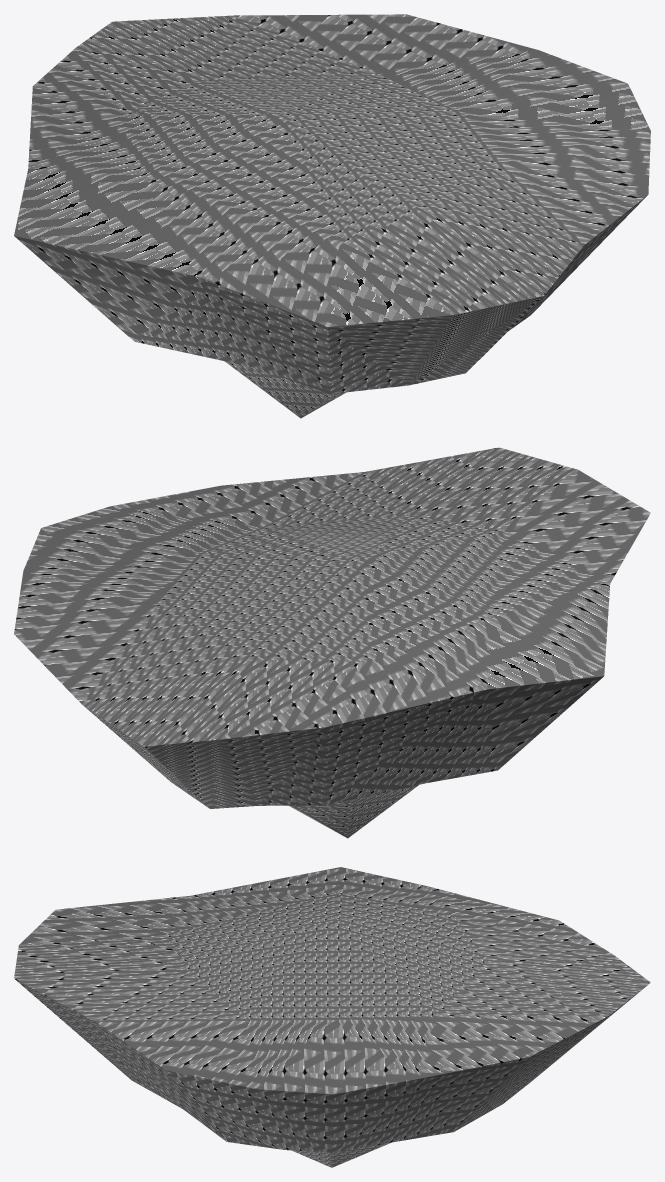
Rendered from Island.fbx.
3 views of the same model, one above another, from view 1: azimuth 30°, elevation 25°; view 2: azimuth 150°, elevation 25°; view 3: azimuth 270°, elevation 25° (orthographic). The views are drawn at different scales.
Visible parts, largest first — view 1: Plane; view 2: Plane; view 3: Plane.
Boxes of the visible parts, bbox=[...] form: Plane: bbox=[14, 14, 650, 418]; Plane: bbox=[14, 447, 650, 838]; Plane: bbox=[14, 867, 650, 1167].
Bounding box in the file's own units: 11377 × 5458 × 13153.
